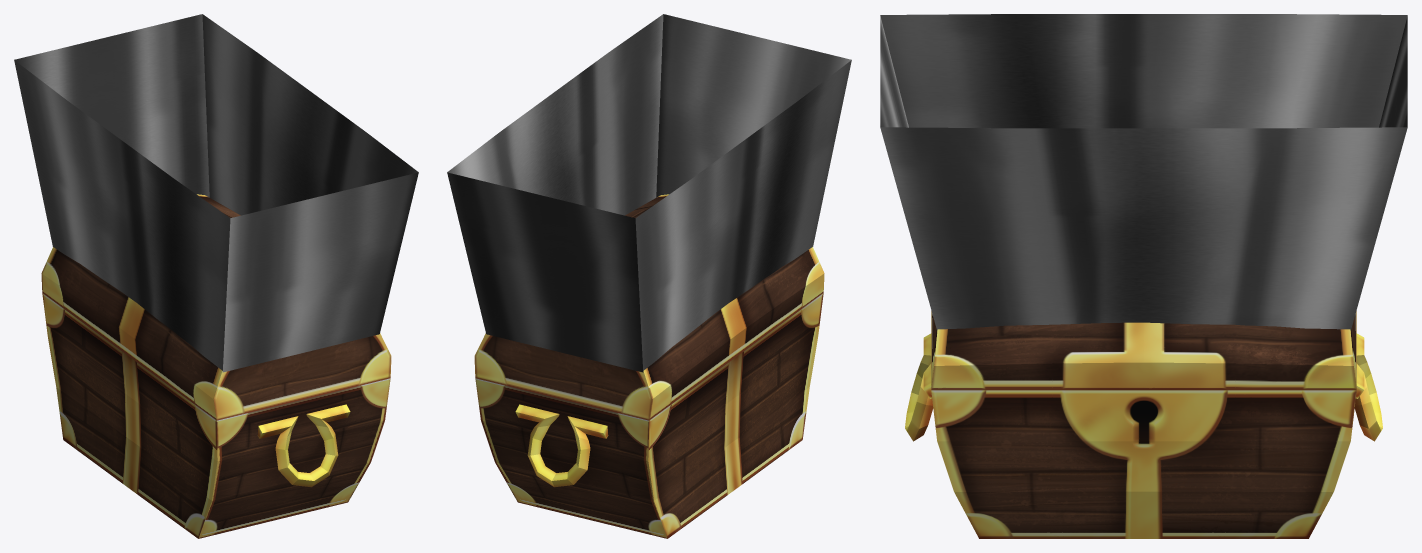
The model's file is Chest.fbx.
3 views of the same model, side by side, from view 1: azimuth 30°, elevation 25°; view 2: azimuth 150°, elevation 25°; view 3: azimuth 270°, elevation 25° (orthographic). The views are drawn at different scales.
Parts seen in each view (by area): view 1: Lightray, Chest, Lid; view 2: Lightray, Chest, Lid; view 3: Lightray, Chest, Lid.
Boxes of the visible parts, <box> form: Lightray: <box>14,14,418,372</box>; Chest: <box>42,293,390,538</box>; Lid: <box>41,194,391,420</box>; Lightray: <box>447,14,851,372</box>; Chest: <box>475,293,823,538</box>; Lid: <box>474,194,824,420</box>; Lightray: <box>880,14,1407,330</box>; Chest: <box>905,333,1382,538</box>; Lid: <box>931,311,1356,390</box>.
Size of the model in its own units: 291 by 512 by 569.
